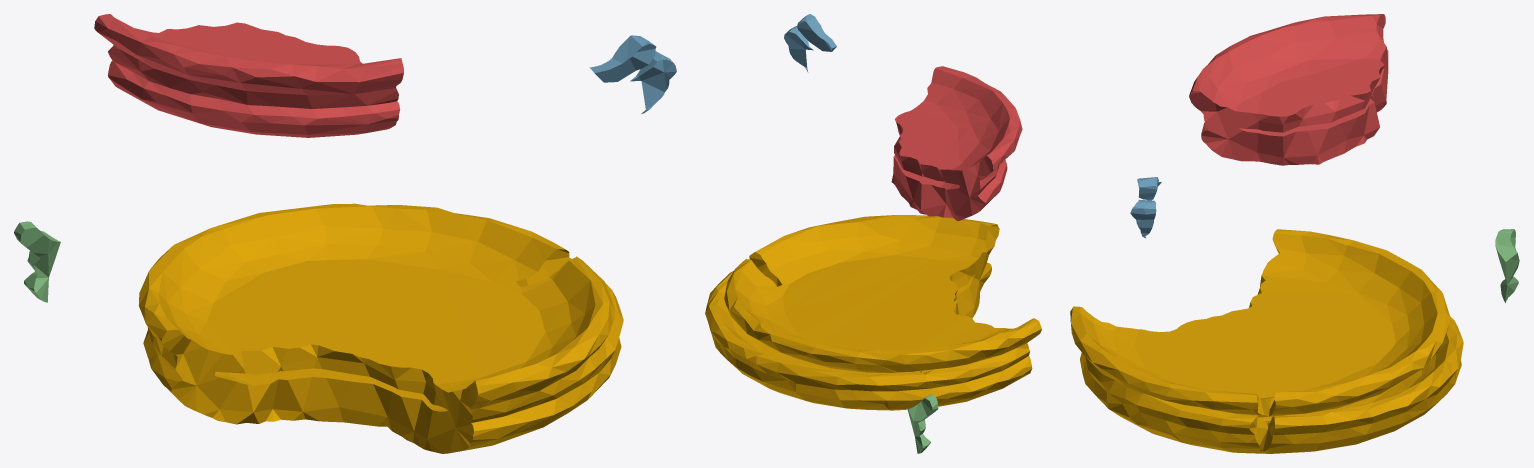
The model's file is fractured_43_4pcs_transformed.glb.
3 renders of one model, left to right at view 1: azimuth 30°, elevation 25°; view 2: azimuth 150°, elevation 25°; view 3: azimuth 270°, elevation 25°, orthographic. The views are drawn at different scales.
Parts seen in each view (by area): view 1: piece_0.obj, piece_1.obj, piece_4.obj, piece_6.obj; view 2: piece_0.obj, piece_1.obj, piece_4.obj, piece_6.obj; view 3: piece_0.obj, piece_1.obj, piece_6.obj, piece_4.obj.
Part boxes in pixels (x1=…): piece_0.obj: x1=138, y1=203, x2=623, y2=453; piece_1.obj: x1=94, y1=14, x2=403, y2=137; piece_4.obj: x1=589, y1=35, x2=676, y2=113; piece_6.obj: x1=14, y1=221, x2=60, y2=302; piece_0.obj: x1=705, y1=215, x2=1041, y2=410; piece_1.obj: x1=891, y1=66, x2=1022, y2=221; piece_4.obj: x1=784, y1=14, x2=836, y2=72; piece_6.obj: x1=907, y1=394, x2=938, y2=453; piece_0.obj: x1=1070, y1=229, x2=1463, y2=453; piece_1.obj: x1=1189, y1=14, x2=1388, y2=165; piece_6.obj: x1=1495, y1=229, x2=1519, y2=302; piece_4.obj: x1=1130, y1=177, x2=1161, y2=238.
Bounding box in the file's own units: 1 × 0.8328 × 1.13.
